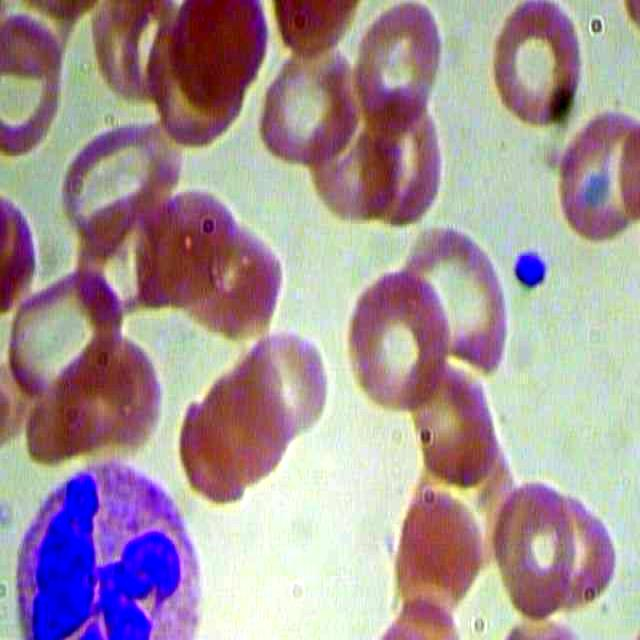Platelets: (509, 243, 555, 297)
RBC: (55, 103, 182, 255), (403, 220, 512, 380), (347, 265, 455, 419), (383, 471, 491, 624), (5, 264, 127, 399), (254, 37, 368, 172), (347, 1, 453, 128), (408, 352, 505, 489), (480, 3, 589, 124), (494, 476, 578, 621), (549, 108, 633, 253)
WBC: (1, 442, 225, 638)
